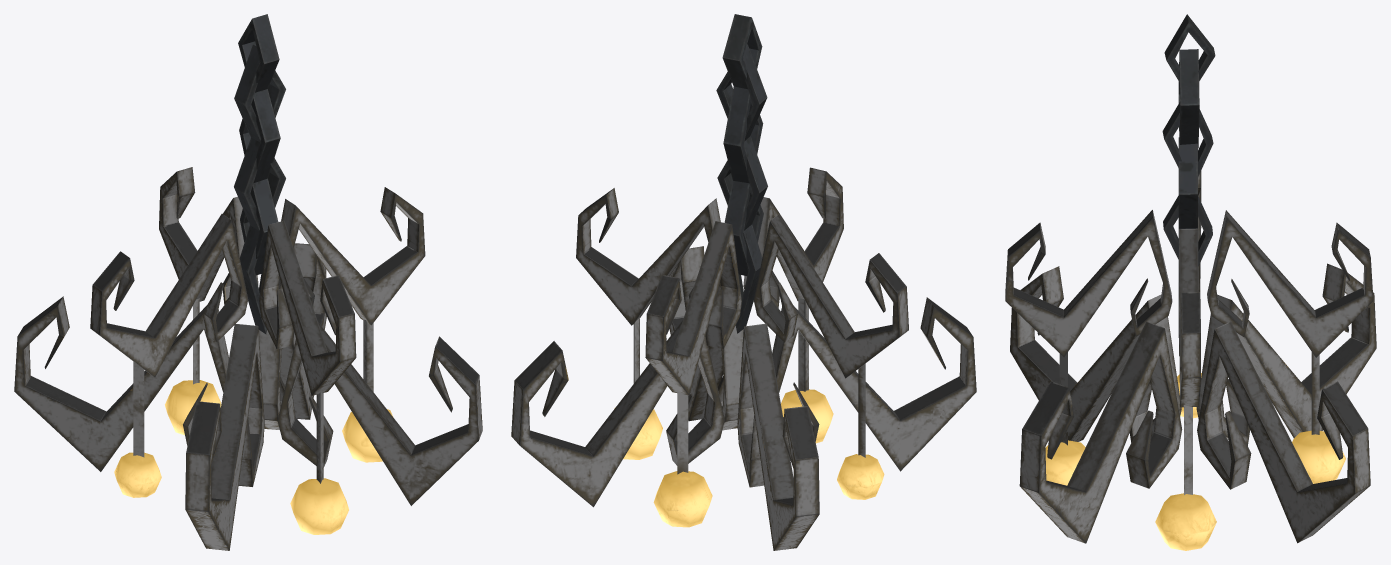
The model's file is SM_Lampara_Loby_001.fbx.
3 renders of one model, left to right at view 1: azimuth 30°, elevation 25°; view 2: azimuth 150°, elevation 25°; view 3: azimuth 270°, elevation 25°, orthographic.
Visible parts, largest first — view 1: SM_Lampara_Loby_001; view 2: SM_Lampara_Loby_001; view 3: SM_Lampara_Loby_001.
Part boxes in pixels (x1,y1,x2,y2): SM_Lampara_Loby_001: (14,14,482,550); SM_Lampara_Loby_001: (511,14,976,550); SM_Lampara_Loby_001: (1005,14,1376,550).
Size of the model in its own units: 229 by 318 by 224.
